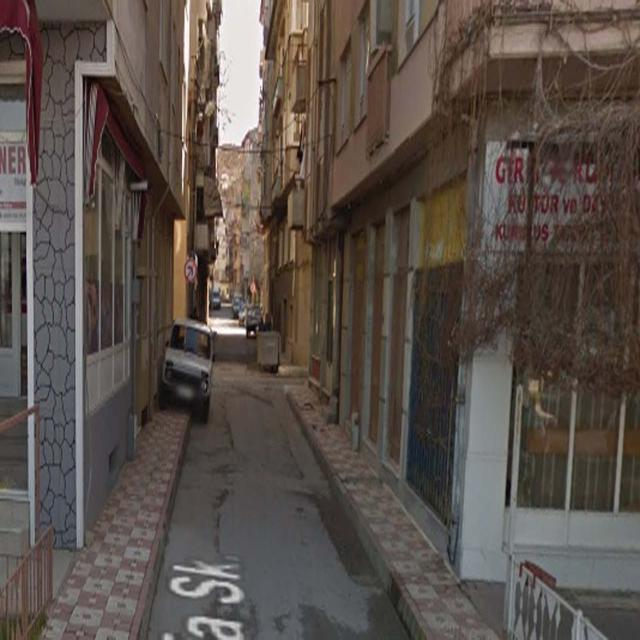soladonulmez: (184, 259, 196, 282)
